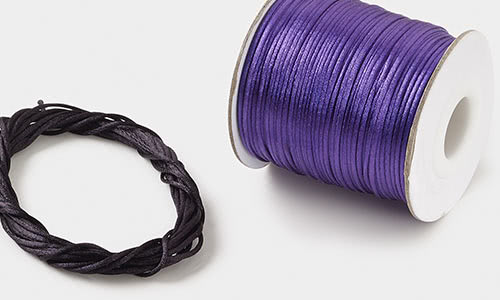Nonrec_Tangler: (226, 1, 494, 218), (1, 98, 211, 284)
